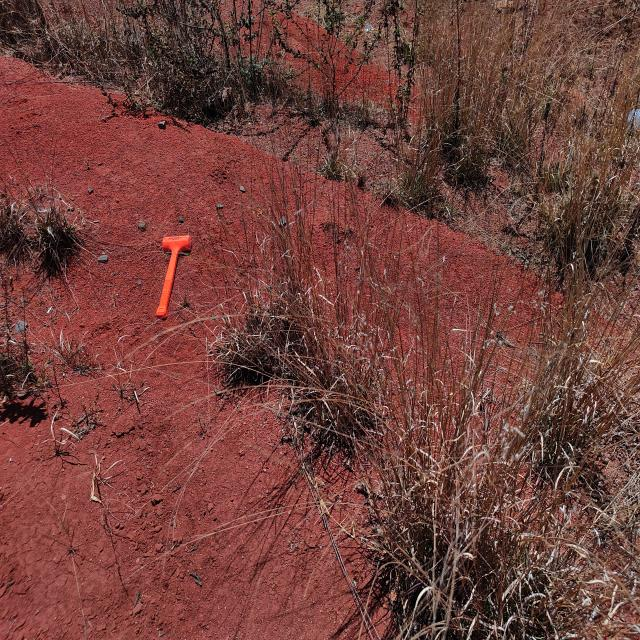Orange_hammer: (154, 233, 192, 319)
